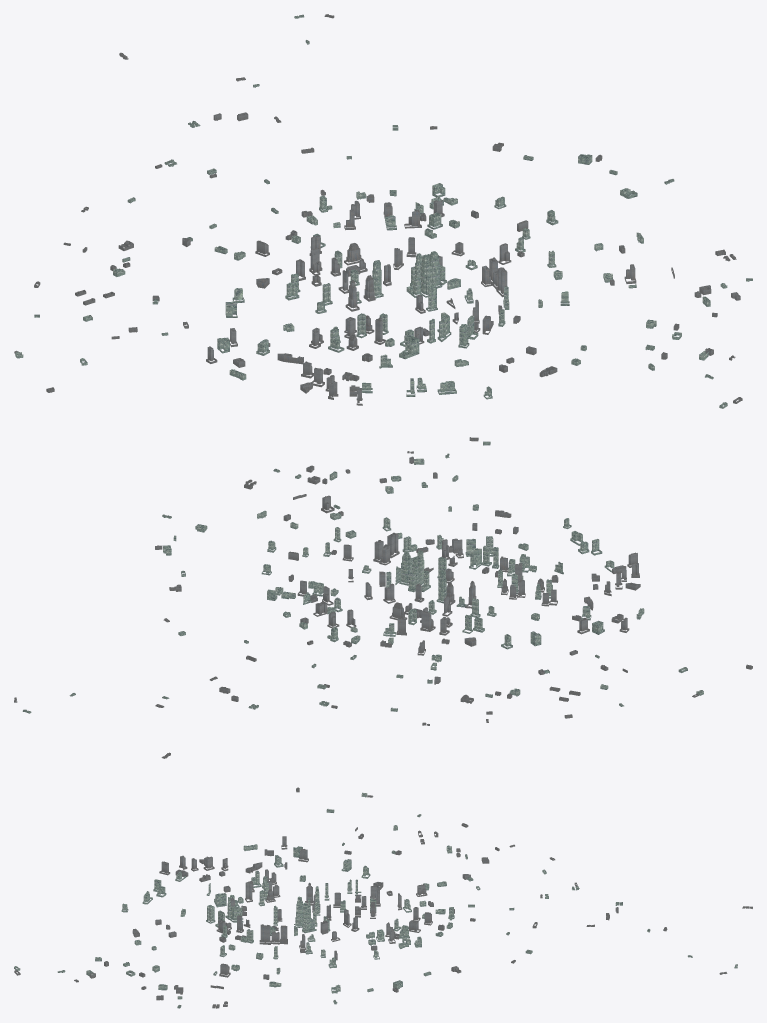
The model's file is city_3d_model_6.glb.
3 views of the same model, one above another, from view 1: azimuth 30°, elevation 25°; view 2: azimuth 150°, elevation 25°; view 3: azimuth 270°, elevation 25° (orthographic). The views are drawn at different scales.
Parts seen in each view (by area): view 1: Object_168, Object_72; view 2: Object_168, Object_72; view 3: Object_72, Object_168.
Part boxes in pixels (x1,y1,x2,y2): Object_168: (15, 14, 752, 408); Object_72: (14, 14, 742, 405); Object_168: (22, 441, 703, 713); Object_72: (14, 437, 752, 758); Object_72: (14, 787, 752, 1008); Object_168: (14, 792, 737, 1008).
Bounding box in the file's own units: 735 × 48.06 × 955.
Materials: 2 (2 with a texture image).
